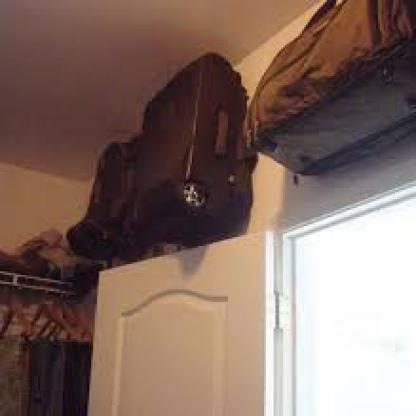maleta: (247, 2, 414, 204), (120, 42, 258, 262), (68, 136, 154, 271)
